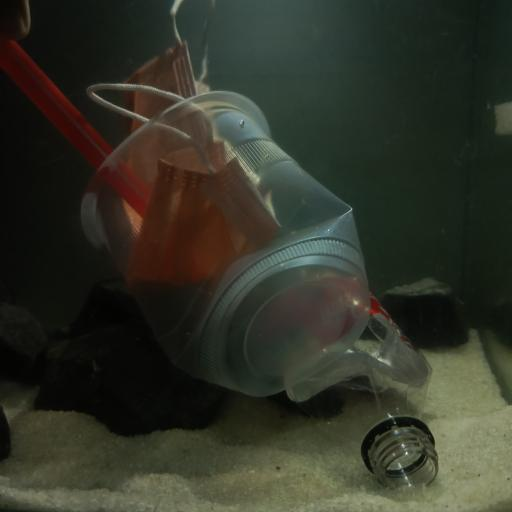mask: (89, 11, 287, 283)
plastic_bottle: (289, 235, 441, 489)
plastic_cup: (80, 91, 370, 397)
plastic_straw: (0, 41, 148, 207)
